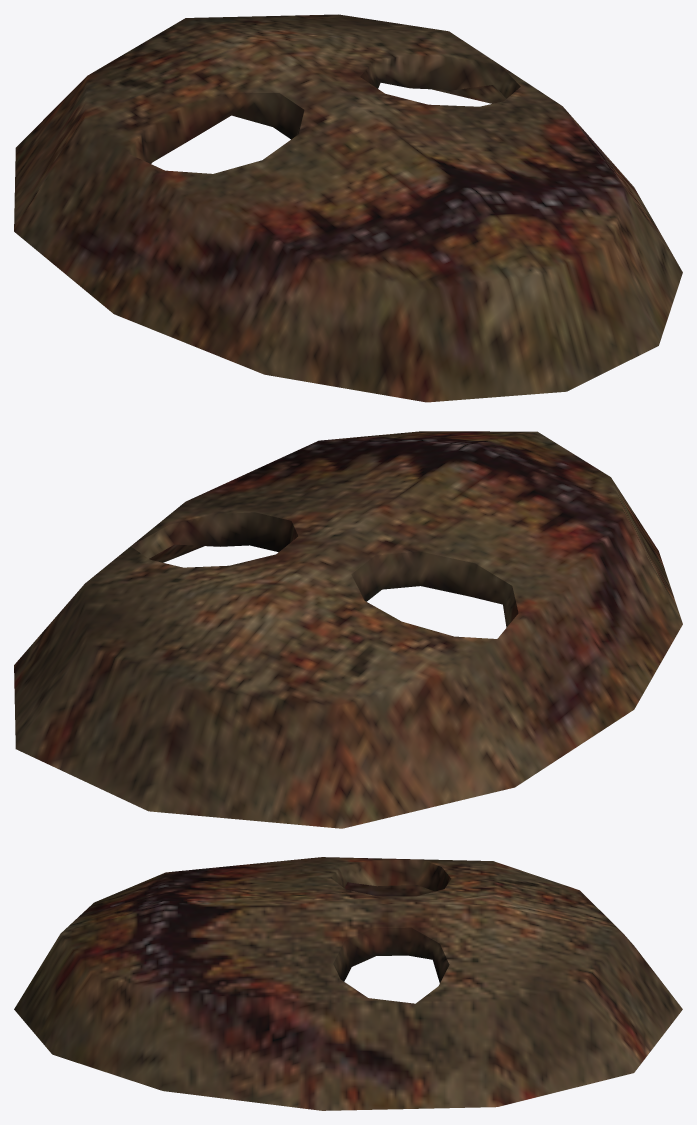
Rendered from mask_mx_2.fbx.
3 views of the same model, one above another, from view 1: azimuth 30°, elevation 25°; view 2: azimuth 150°, elevation 25°; view 3: azimuth 270°, elevation 25° (orthographic). The views are drawn at different scales.
Visible parts, largest first — view 1: mask_mx_2; view 2: mask_mx_2; view 3: mask_mx_2.
Boxes of the visible parts, x1,y1,x2,y2 form: mask_mx_2: [14, 14, 682, 402]; mask_mx_2: [14, 431, 682, 828]; mask_mx_2: [14, 857, 682, 1110].
Size of the model in its own units: 0.2297 by 0.3198 by 0.0554.
